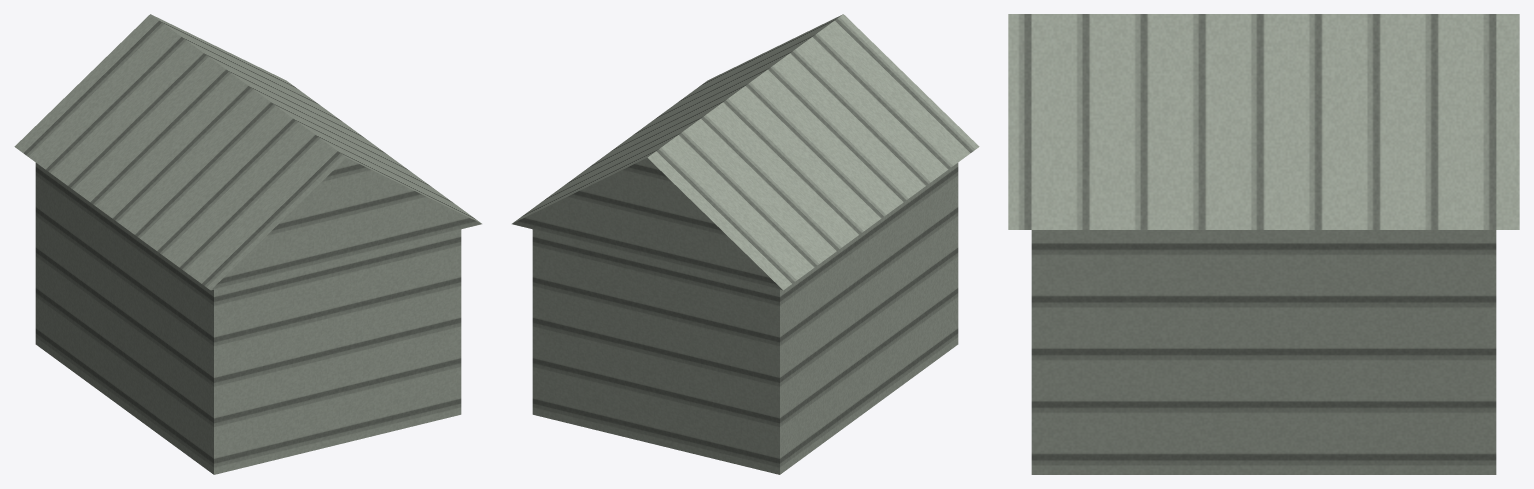
File: doghouse.glb
3 views of the same model, side by side, from view 1: azimuth 30°, elevation 25°; view 2: azimuth 150°, elevation 25°; view 3: azimuth 270°, elevation 25° (orthographic). The views are drawn at different scales.
Parts seen in each view (by area): view 1: doghouse-col; view 2: doghouse-col; view 3: doghouse-col.
Boxes of the visible parts, <box> form: doghouse-col: <box>14,14,481,474</box>; doghouse-col: <box>512,14,979,474</box>; doghouse-col: <box>1008,14,1519,474</box>.
Size of the model in its own units: 0.88 by 0.908 by 1.1.
1 material, 1 textured.
